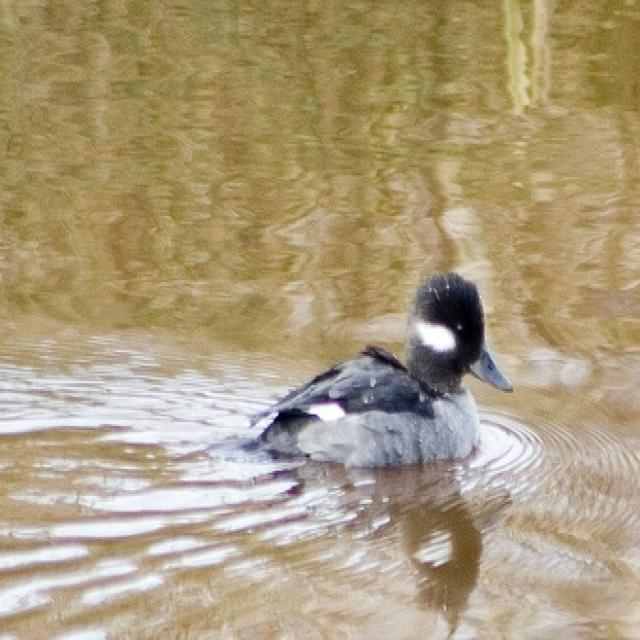bird: (242, 270, 517, 471)
